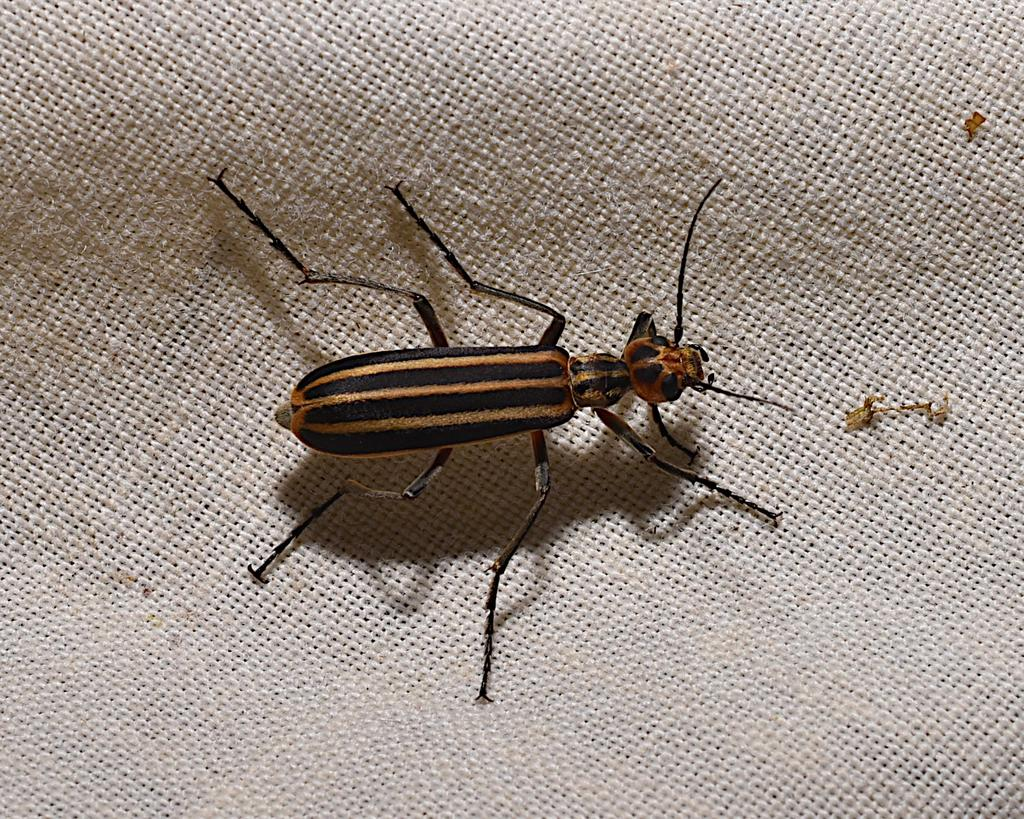blister_beetle: (96, 76, 922, 748)
